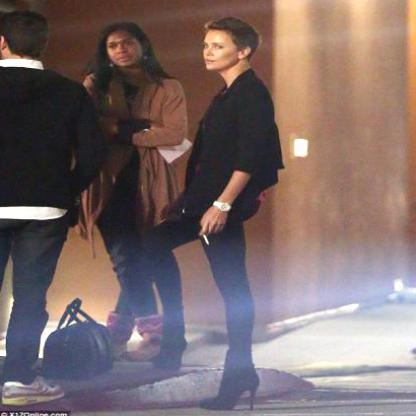cigarette: (202, 235, 212, 248)
person: (152, 9, 289, 411), (0, 10, 99, 415), (68, 16, 178, 371)
